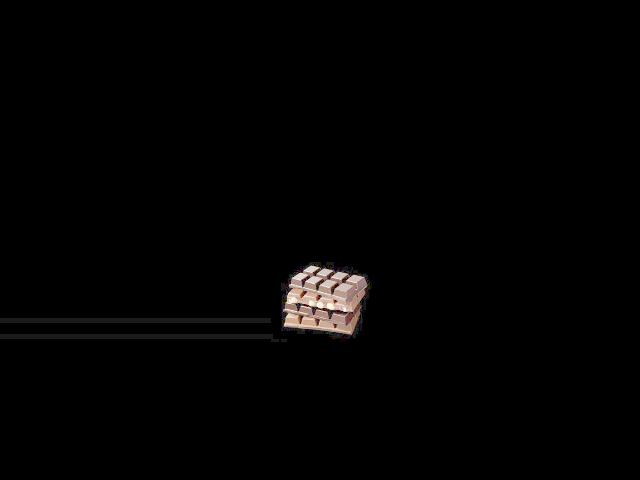chocolate: (284, 265, 361, 337)
